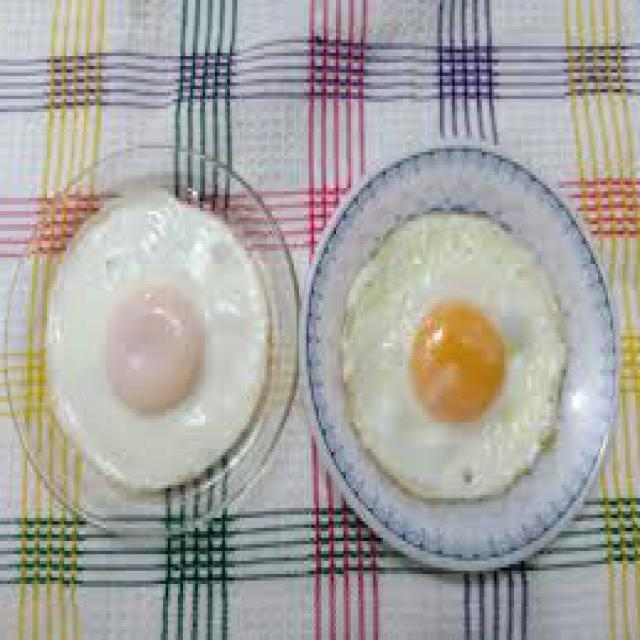Fried Egg: (47, 196, 271, 495), (342, 212, 566, 502)
